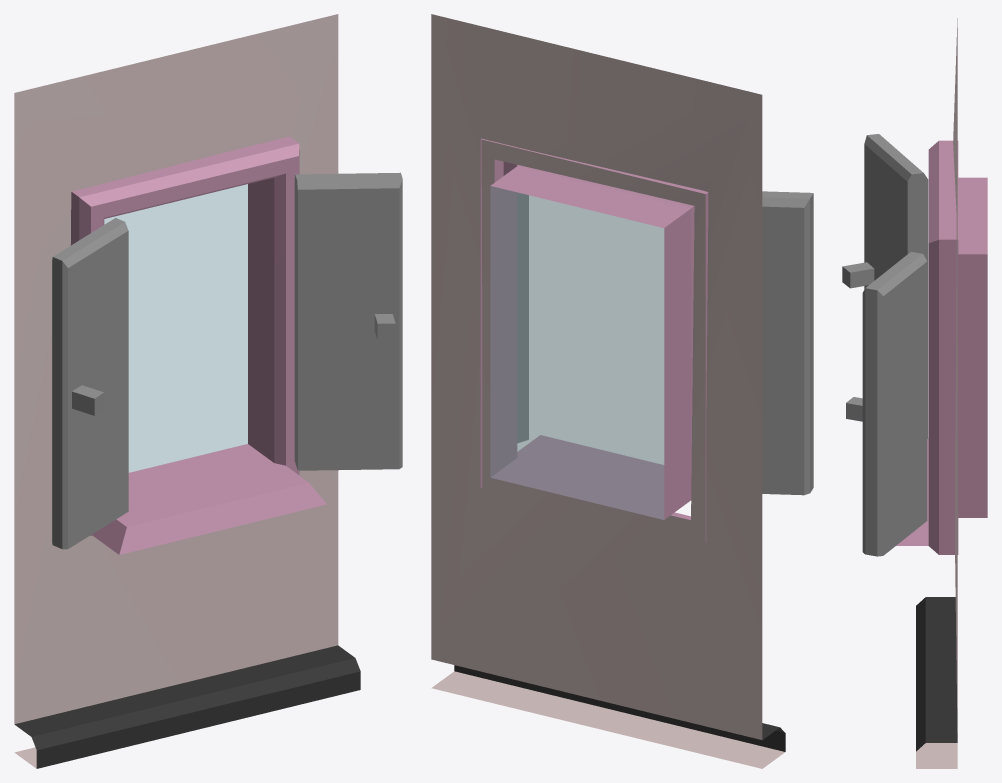
The model's file is Wand_OG_Fenster.FBX.
3 renders of one model, left to right at view 1: azimuth 30°, elevation 25°; view 2: azimuth 150°, elevation 25°; view 3: azimuth 270°, elevation 25°, orthographic. The views are drawn at different scales.
Parts seen in each view (by area): view 1: Wand_OG_Fenster; view 2: Wand_OG_Fenster; view 3: Wand_OG_Fenster.
Boxes of the visible parts, box(x1,y1,x2,y2) form: Wand_OG_Fenster: box(14, 14, 402, 768); Wand_OG_Fenster: box(431, 14, 813, 768); Wand_OG_Fenster: box(842, 18, 987, 768).
Bounding box in the file's own units: 42.19 × 76.57 × 16.54.
